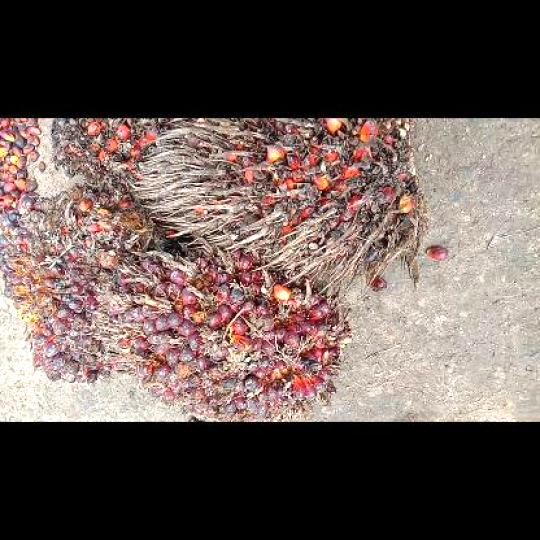masak: (93, 236, 350, 421), (0, 184, 180, 382)
terlalu masak: (131, 118, 430, 293), (50, 118, 173, 194)
